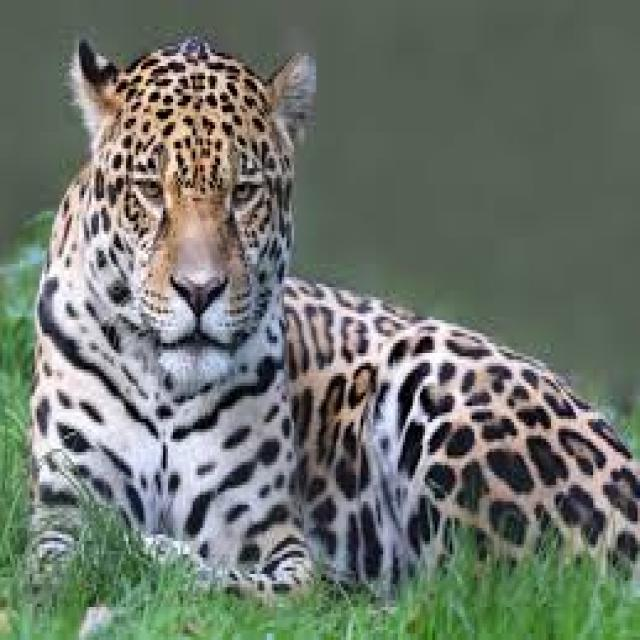Jaguar: (10, 23, 640, 614)
